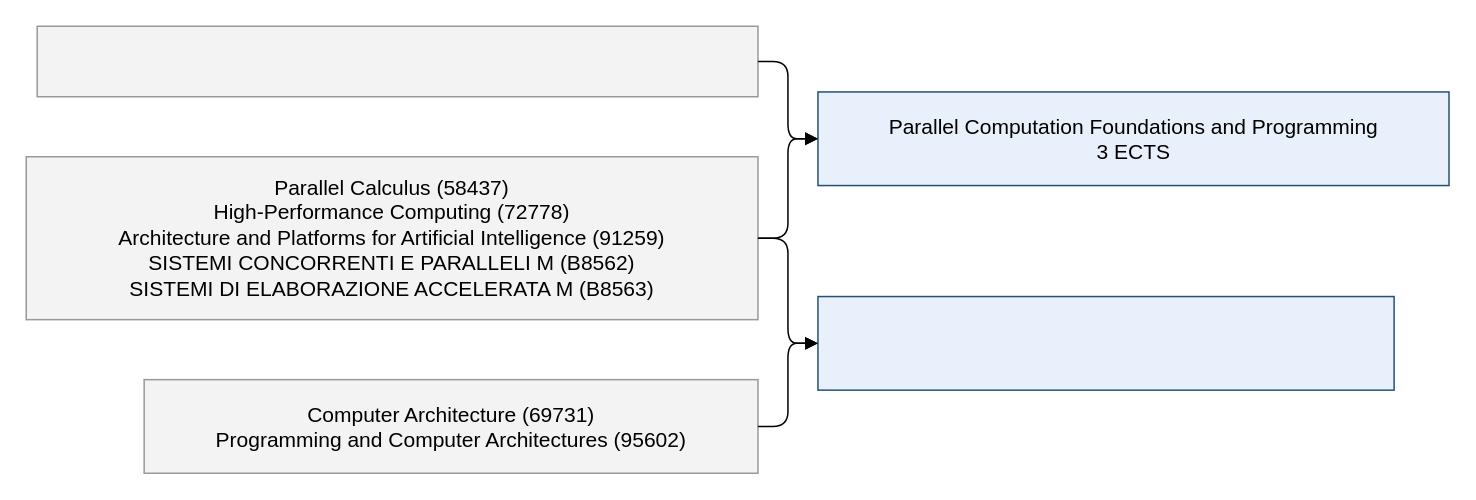
Image size: 1476x500. Some labels were removed from this diagram. The box of each missing label's shape, as (x1, y1, x2, y2) in pixels:
Infrastructures For Cloud Computing and Big Data M (84531): (36, 25, 758, 97)
Parallel Computer Hardware and Architectures 6 ECTS: (816, 295, 1394, 390)
